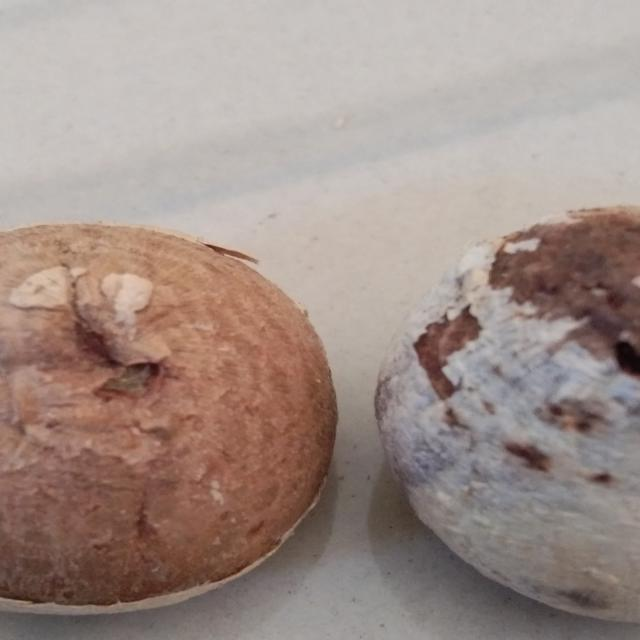karigot: (395, 182, 640, 608)
phatora: (0, 207, 353, 626)
